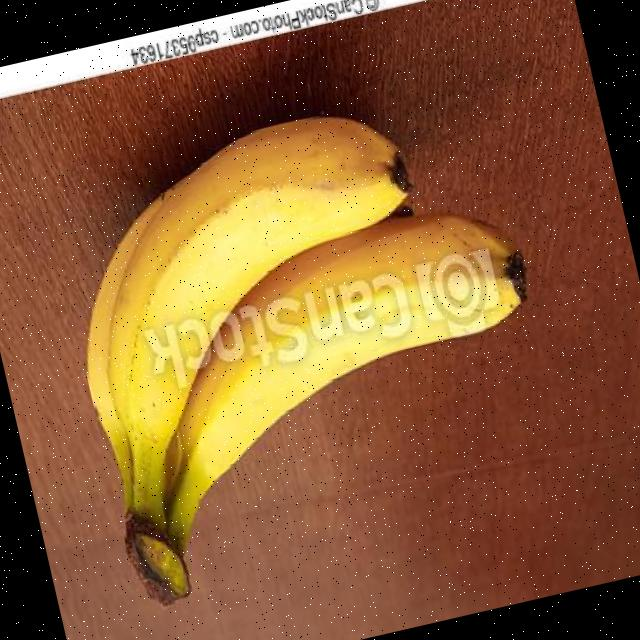banana: (86, 111, 413, 599), (172, 209, 527, 507)
